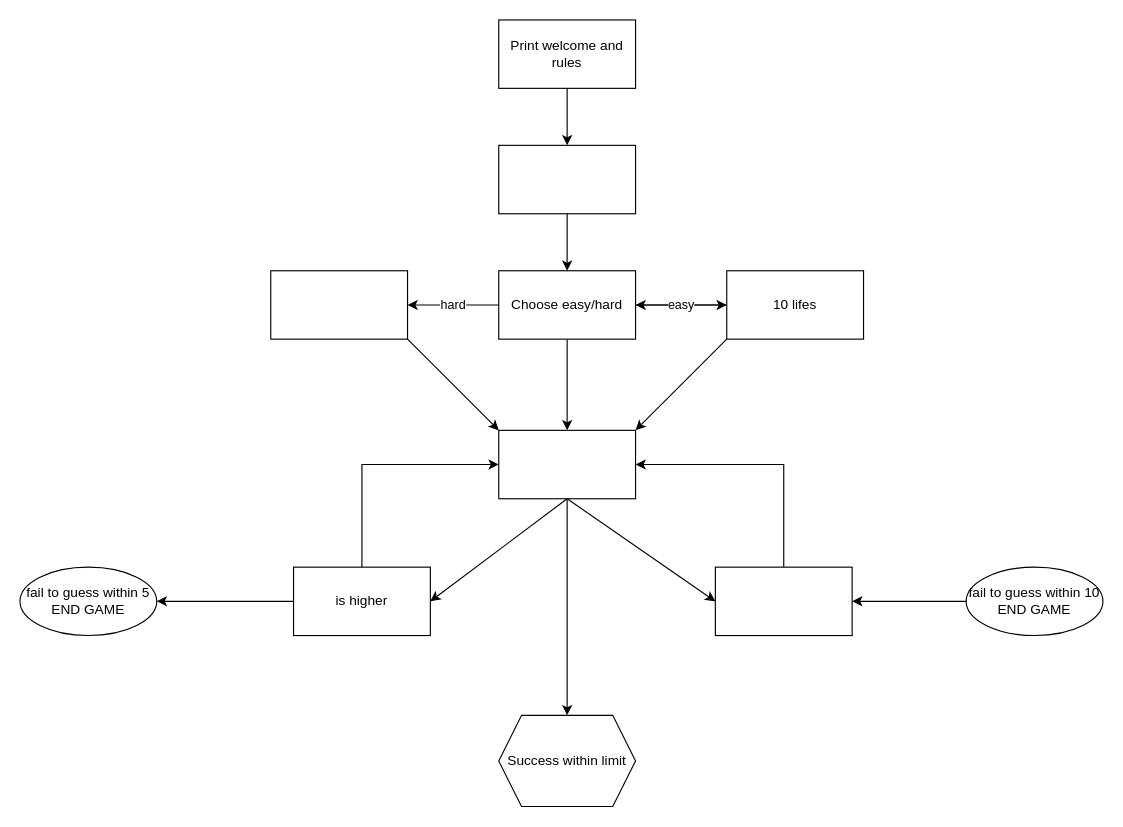
Some shapes in this 1123 by 827 pixel diagram are drawn without their labels. The centre of each missing label's shape, as x and y in pixels:
5 lifes: point (339, 304)
ask player for input number: point (567, 464)
is lower: point (783, 601)
Random int 1-100: point (567, 179)
